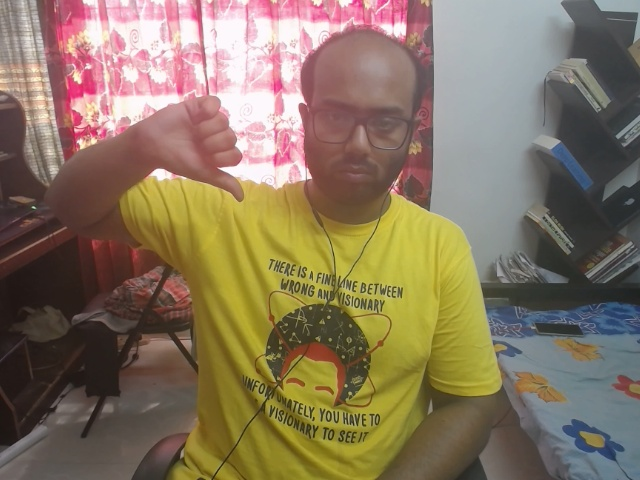nine: (120, 74, 258, 231)
